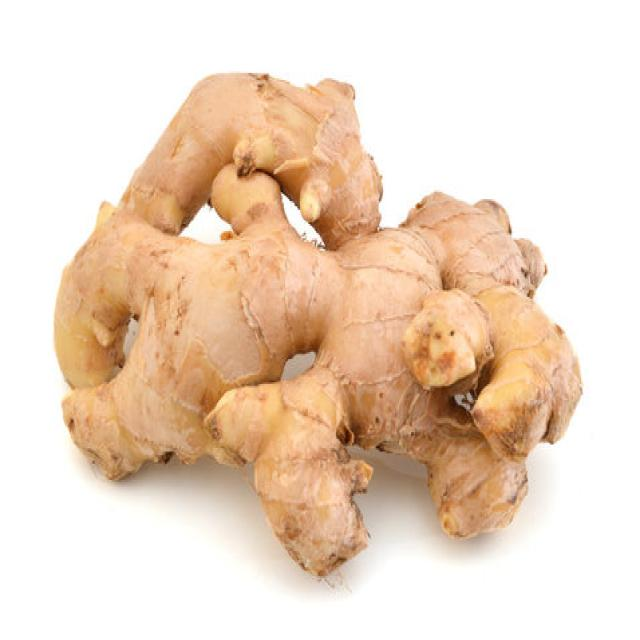Ginger: (54, 68, 584, 578)
